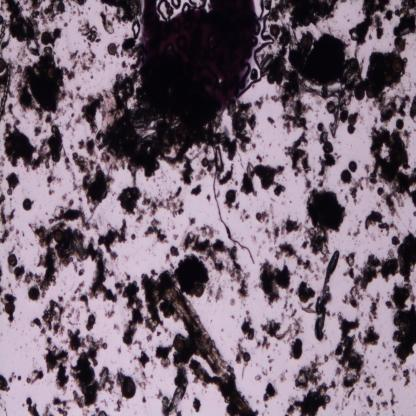Air bubble: (130, 18, 142, 40), (158, 1, 171, 19), (188, 0, 207, 8), (172, 0, 182, 9)
Background material: (144, 271, 258, 415), (96, 116, 213, 181), (369, 125, 416, 220), (290, 32, 364, 91), (261, 54, 307, 133), (68, 327, 114, 405), (342, 250, 399, 310), (15, 59, 74, 116), (3, 120, 64, 171), (303, 188, 346, 254), (385, 282, 416, 363), (113, 272, 145, 349), (334, 314, 366, 390), (208, 243, 250, 298), (30, 222, 60, 298), (348, 0, 392, 49), (76, 154, 112, 212), (4, 0, 41, 56), (366, 49, 404, 103), (160, 353, 190, 415), (285, 380, 337, 415), (257, 256, 293, 306), (272, 0, 340, 26), (74, 85, 108, 136), (43, 335, 69, 395), (285, 136, 312, 192), (314, 123, 338, 185), (58, 229, 96, 268), (31, 296, 70, 334), (140, 184, 186, 216), (107, 72, 140, 116), (96, 218, 129, 262), (230, 100, 258, 150), (174, 255, 206, 295), (391, 233, 416, 284), (260, 314, 305, 342), (392, 0, 416, 52), (275, 242, 315, 273), (183, 217, 214, 255), (290, 356, 324, 390), (46, 205, 92, 230), (92, 258, 117, 304), (374, 92, 409, 124), (254, 161, 286, 196), (99, 1, 142, 24), (364, 374, 388, 412), (363, 210, 399, 235), (211, 128, 238, 160), (117, 186, 143, 216), (263, 221, 303, 239), (144, 219, 170, 246), (389, 361, 413, 390), (120, 38, 141, 70), (67, 48, 96, 71), (70, 281, 90, 314), (77, 18, 102, 44), (0, 63, 12, 117), (240, 310, 257, 344), (233, 342, 251, 373), (348, 176, 367, 205), (64, 154, 78, 192), (42, 1, 66, 23), (43, 398, 72, 416), (0, 192, 16, 224), (366, 292, 382, 323), (12, 266, 35, 286), (297, 280, 316, 304), (217, 162, 235, 187), (241, 171, 258, 197), (358, 328, 380, 348), (78, 137, 96, 158), (100, 12, 115, 36), (288, 337, 304, 359), (283, 289, 296, 316), (263, 382, 278, 405), (5, 172, 20, 194), (133, 350, 149, 368), (0, 226, 15, 245), (25, 396, 39, 416), (256, 336, 272, 352), (25, 368, 42, 383), (50, 27, 62, 48), (409, 93, 416, 126), (255, 210, 271, 224), (353, 219, 364, 238), (137, 372, 147, 392), (254, 367, 268, 381), (240, 207, 251, 224), (0, 375, 10, 392), (60, 194, 74, 206), (165, 247, 180, 258), (136, 208, 147, 223), (389, 388, 397, 408), (254, 97, 266, 110), (190, 184, 202, 197), (0, 266, 5, 297), (8, 371, 22, 382), (192, 397, 201, 414), (45, 174, 57, 186), (41, 47, 55, 57), (3, 293, 18, 302), (267, 353, 274, 372), (92, 407, 108, 415), (46, 186, 58, 196), (267, 116, 275, 128), (1, 21, 7, 37), (76, 0, 87, 8), (279, 373, 286, 382), (229, 298, 236, 306), (206, 194, 212, 202), (131, 233, 136, 241)
Cellulose filter fibre: (300, 80, 342, 136), (316, 251, 340, 341)
Diatom: (121, 380, 136, 398), (225, 188, 236, 205), (54, 227, 64, 245), (354, 86, 366, 101), (28, 287, 40, 302), (392, 58, 404, 72), (40, 31, 50, 47), (341, 170, 352, 184), (174, 338, 184, 353), (7, 253, 17, 268), (269, 24, 280, 37), (193, 284, 203, 298), (47, 66, 57, 80), (5, 303, 16, 315), (160, 357, 171, 369), (107, 42, 117, 55), (348, 113, 357, 127), (200, 156, 210, 168), (86, 313, 96, 325), (395, 118, 405, 130), (301, 306, 316, 314), (338, 110, 348, 121), (23, 199, 32, 211), (348, 162, 358, 172), (246, 163, 252, 178), (347, 126, 355, 134)
Pen: (138, 0, 256, 117)
